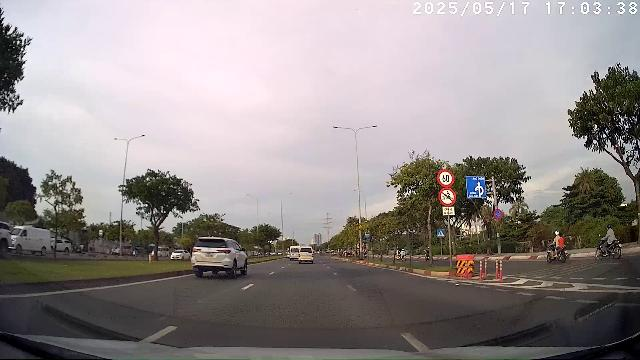127-toc-do-toi-da-60: (438, 169, 454, 187)
